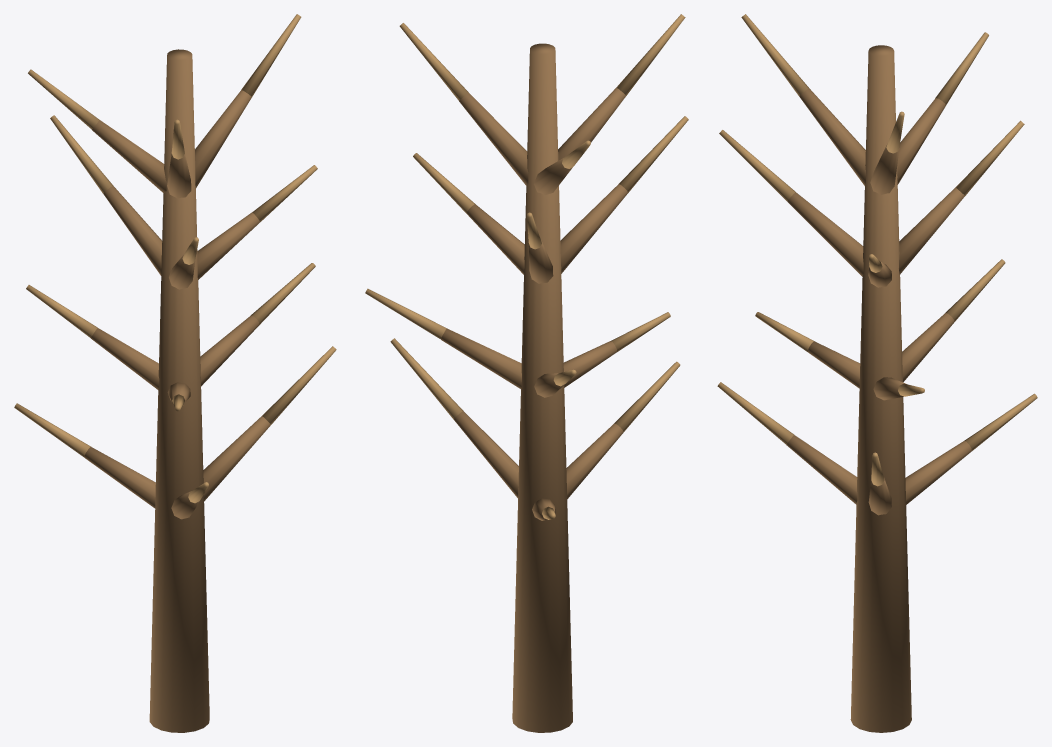
File: dry_sapling_a.glb
3 renders of one model, left to right at view 1: azimuth 30°, elevation 25°; view 2: azimuth 150°, elevation 25°; view 3: azimuth 270°, elevation 25°, orthographic.
Visible parts, largest first — view 1: dry_sapling_a_trunk, dry_sapling_a_branch_3_0_a, dry_sapling_a_branch_3_1_a, dry_sapling_a_branch_0_0_a, dry_sapling_a_branch_2_1_a, dry_sapling_a_branch_0_1_a, dry_sapling_a_branch_1_1_a, dry_sapling_a_branch_2_0_a, dry_sapling_a_branch_1_0_a, dry_sapling_a_branch_0_0_b, dry_sapling_a_branch_3_0_b, dry_sapling_a_branch_2_1_b (+7 smaller); view 2: dry_sapling_a_trunk, dry_sapling_a_branch_3_0_a, dry_sapling_a_branch_2_2_a, dry_sapling_a_branch_0_0_a, dry_sapling_a_branch_1_0_a, dry_sapling_a_branch_0_2_a, dry_sapling_a_branch_3_2_a, dry_sapling_a_branch_2_0_a, dry_sapling_a_branch_0_0_b, dry_sapling_a_branch_3_2_b, dry_sapling_a_branch_1_2_a, dry_sapling_a_branch_2_2_b (+7 smaller); view 3: dry_sapling_a_trunk, dry_sapling_a_branch_3_2_a, dry_sapling_a_branch_2_2_a, dry_sapling_a_branch_2_1_a, dry_sapling_a_branch_0_2_a, dry_sapling_a_branch_0_1_a, dry_sapling_a_branch_3_1_a, dry_sapling_a_branch_1_1_a, dry_sapling_a_branch_1_2_a, dry_sapling_a_branch_3_2_b, dry_sapling_a_branch_3_0_a, dry_sapling_a_branch_2_2_b (+8 smaller).
Boxes of the visible parts, x1,y1,x2,y2 form: dry_sapling_a_trunk: [149, 49, 209, 732]; dry_sapling_a_branch_3_0_a: [195, 90, 251, 188]; dry_sapling_a_branch_3_1_a: [91, 120, 166, 193]; dry_sapling_a_branch_0_0_a: [203, 416, 270, 501]; dry_sapling_a_branch_2_1_a: [103, 186, 162, 275]; dry_sapling_a_branch_0_1_a: [84, 447, 155, 508]; dry_sapling_a_branch_1_1_a: [91, 328, 159, 389]; dry_sapling_a_branch_2_0_a: [197, 212, 259, 279]; dry_sapling_a_branch_1_0_a: [200, 315, 259, 386]; dry_sapling_a_branch_0_0_b: [262, 346, 336, 424]; dry_sapling_a_branch_3_0_b: [241, 14, 301, 96]; dry_sapling_a_branch_2_1_b: [50, 115, 113, 193]; dry_sapling_a_trunk: [512, 43, 572, 732]; dry_sapling_a_branch_3_0_a: [459, 92, 528, 185]; dry_sapling_a_branch_2_2_a: [560, 184, 627, 273]; dry_sapling_a_branch_0_0_a: [454, 411, 518, 497]; dry_sapling_a_branch_1_0_a: [441, 328, 521, 388]; dry_sapling_a_branch_0_2_a: [566, 423, 623, 498]; dry_sapling_a_branch_3_2_a: [558, 87, 626, 160]; dry_sapling_a_branch_2_0_a: [466, 204, 524, 274]; dry_sapling_a_branch_0_0_b: [390, 338, 463, 419]; dry_sapling_a_branch_3_2_b: [616, 14, 685, 95]; dry_sapling_a_branch_1_2_a: [563, 341, 617, 387]; dry_sapling_a_branch_2_2_b: [619, 116, 688, 192]; dry_sapling_a_trunk: [850, 45, 911, 732]; dry_sapling_a_branch_3_2_a: [799, 88, 865, 185]; dry_sapling_a_branch_2_2_a: [787, 192, 863, 276]; dry_sapling_a_branch_2_1_a: [899, 187, 964, 274]; dry_sapling_a_branch_0_2_a: [786, 435, 857, 504]; dry_sapling_a_branch_0_1_a: [905, 441, 971, 504]; dry_sapling_a_branch_3_1_a: [897, 98, 945, 184]; dry_sapling_a_branch_1_1_a: [902, 313, 954, 382]; dry_sapling_a_branch_1_2_a: [808, 341, 860, 388]; dry_sapling_a_branch_3_2_b: [741, 14, 808, 95]; dry_sapling_a_branch_3_0_a: [870, 144, 899, 194]; dry_sapling_a_branch_2_2_b: [719, 130, 795, 200].
Bounding box in the file's own units: 0.5336 × 1.33 × 0.5766.
